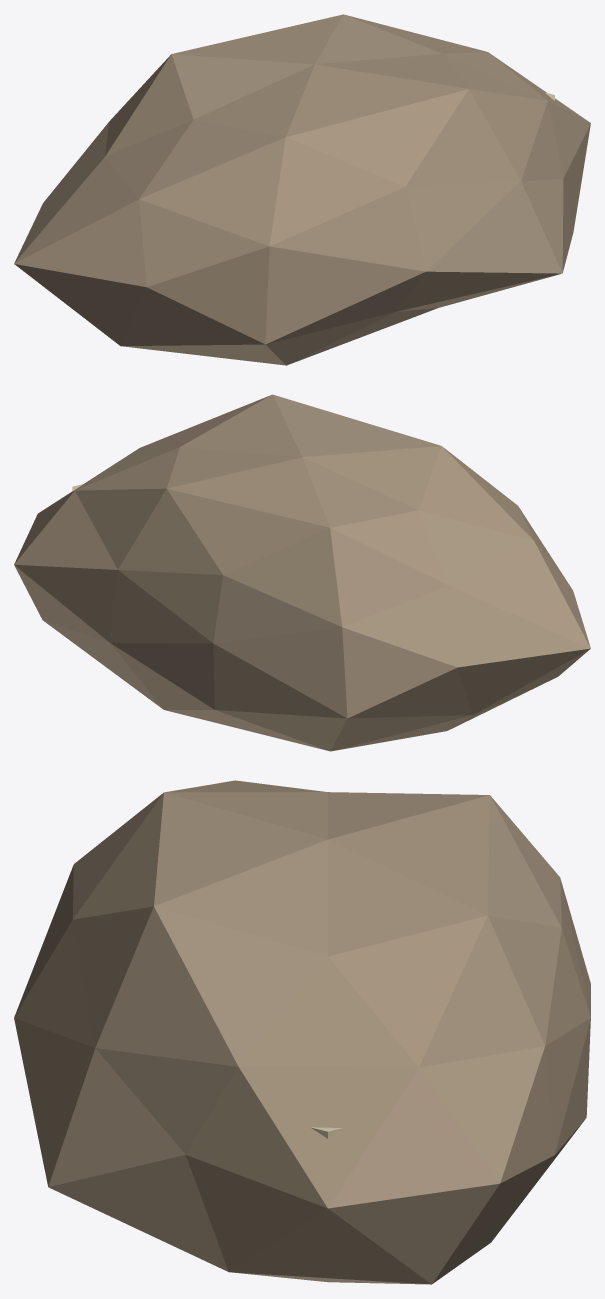
The model's file is loot_bag.glb.
3 views of the same model, one above another, from view 1: azimuth 30°, elevation 25°; view 2: azimuth 150°, elevation 25°; view 3: azimuth 270°, elevation 25° (orthographic). The views are drawn at different scales.
Parts seen in each view (by area): view 1: loot_bag; view 2: loot_bag; view 3: loot_bag.
Part boxes in pixels (x1,y1,x2,y2): loot_bag: (14,14,590,365); loot_bag: (14,394,590,751); loot_bag: (14,780,590,1284).
Size of the model in its own units: 0.9852 by 0.4058 by 0.6031.
